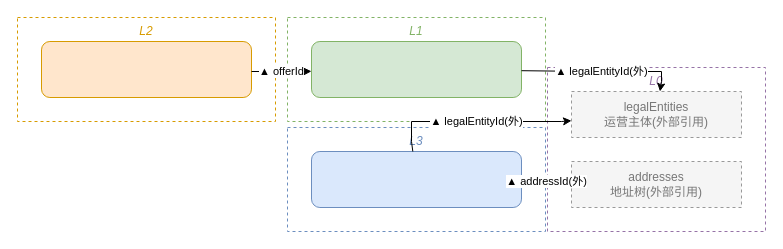
The diagram is 783 pixels wide and 249 high, and some of its shapes have lost their labels. Here are the shapes that lost their labels. From the top down, the centre of each, then its label:
the point at 146,69: regionOffers 区域运营包 · 2行
the point at 416,69: productOffers 产品目录 · 5行
the point at 416,179: customers 客户档案 · 3行
